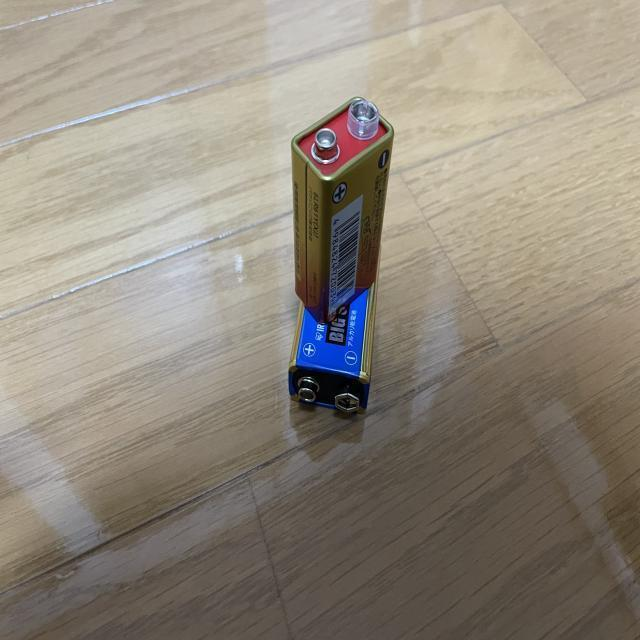9V: (290, 94, 395, 325), (287, 241, 382, 420)
